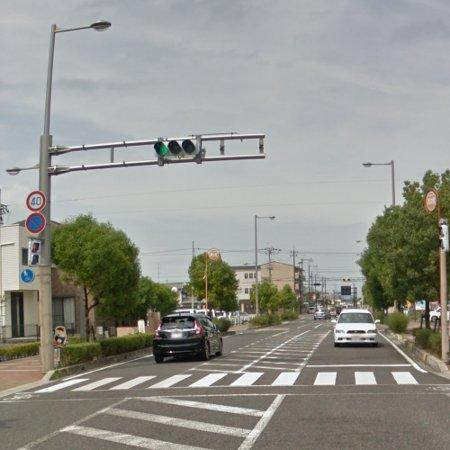crosswalks: (34, 370, 421, 393)
